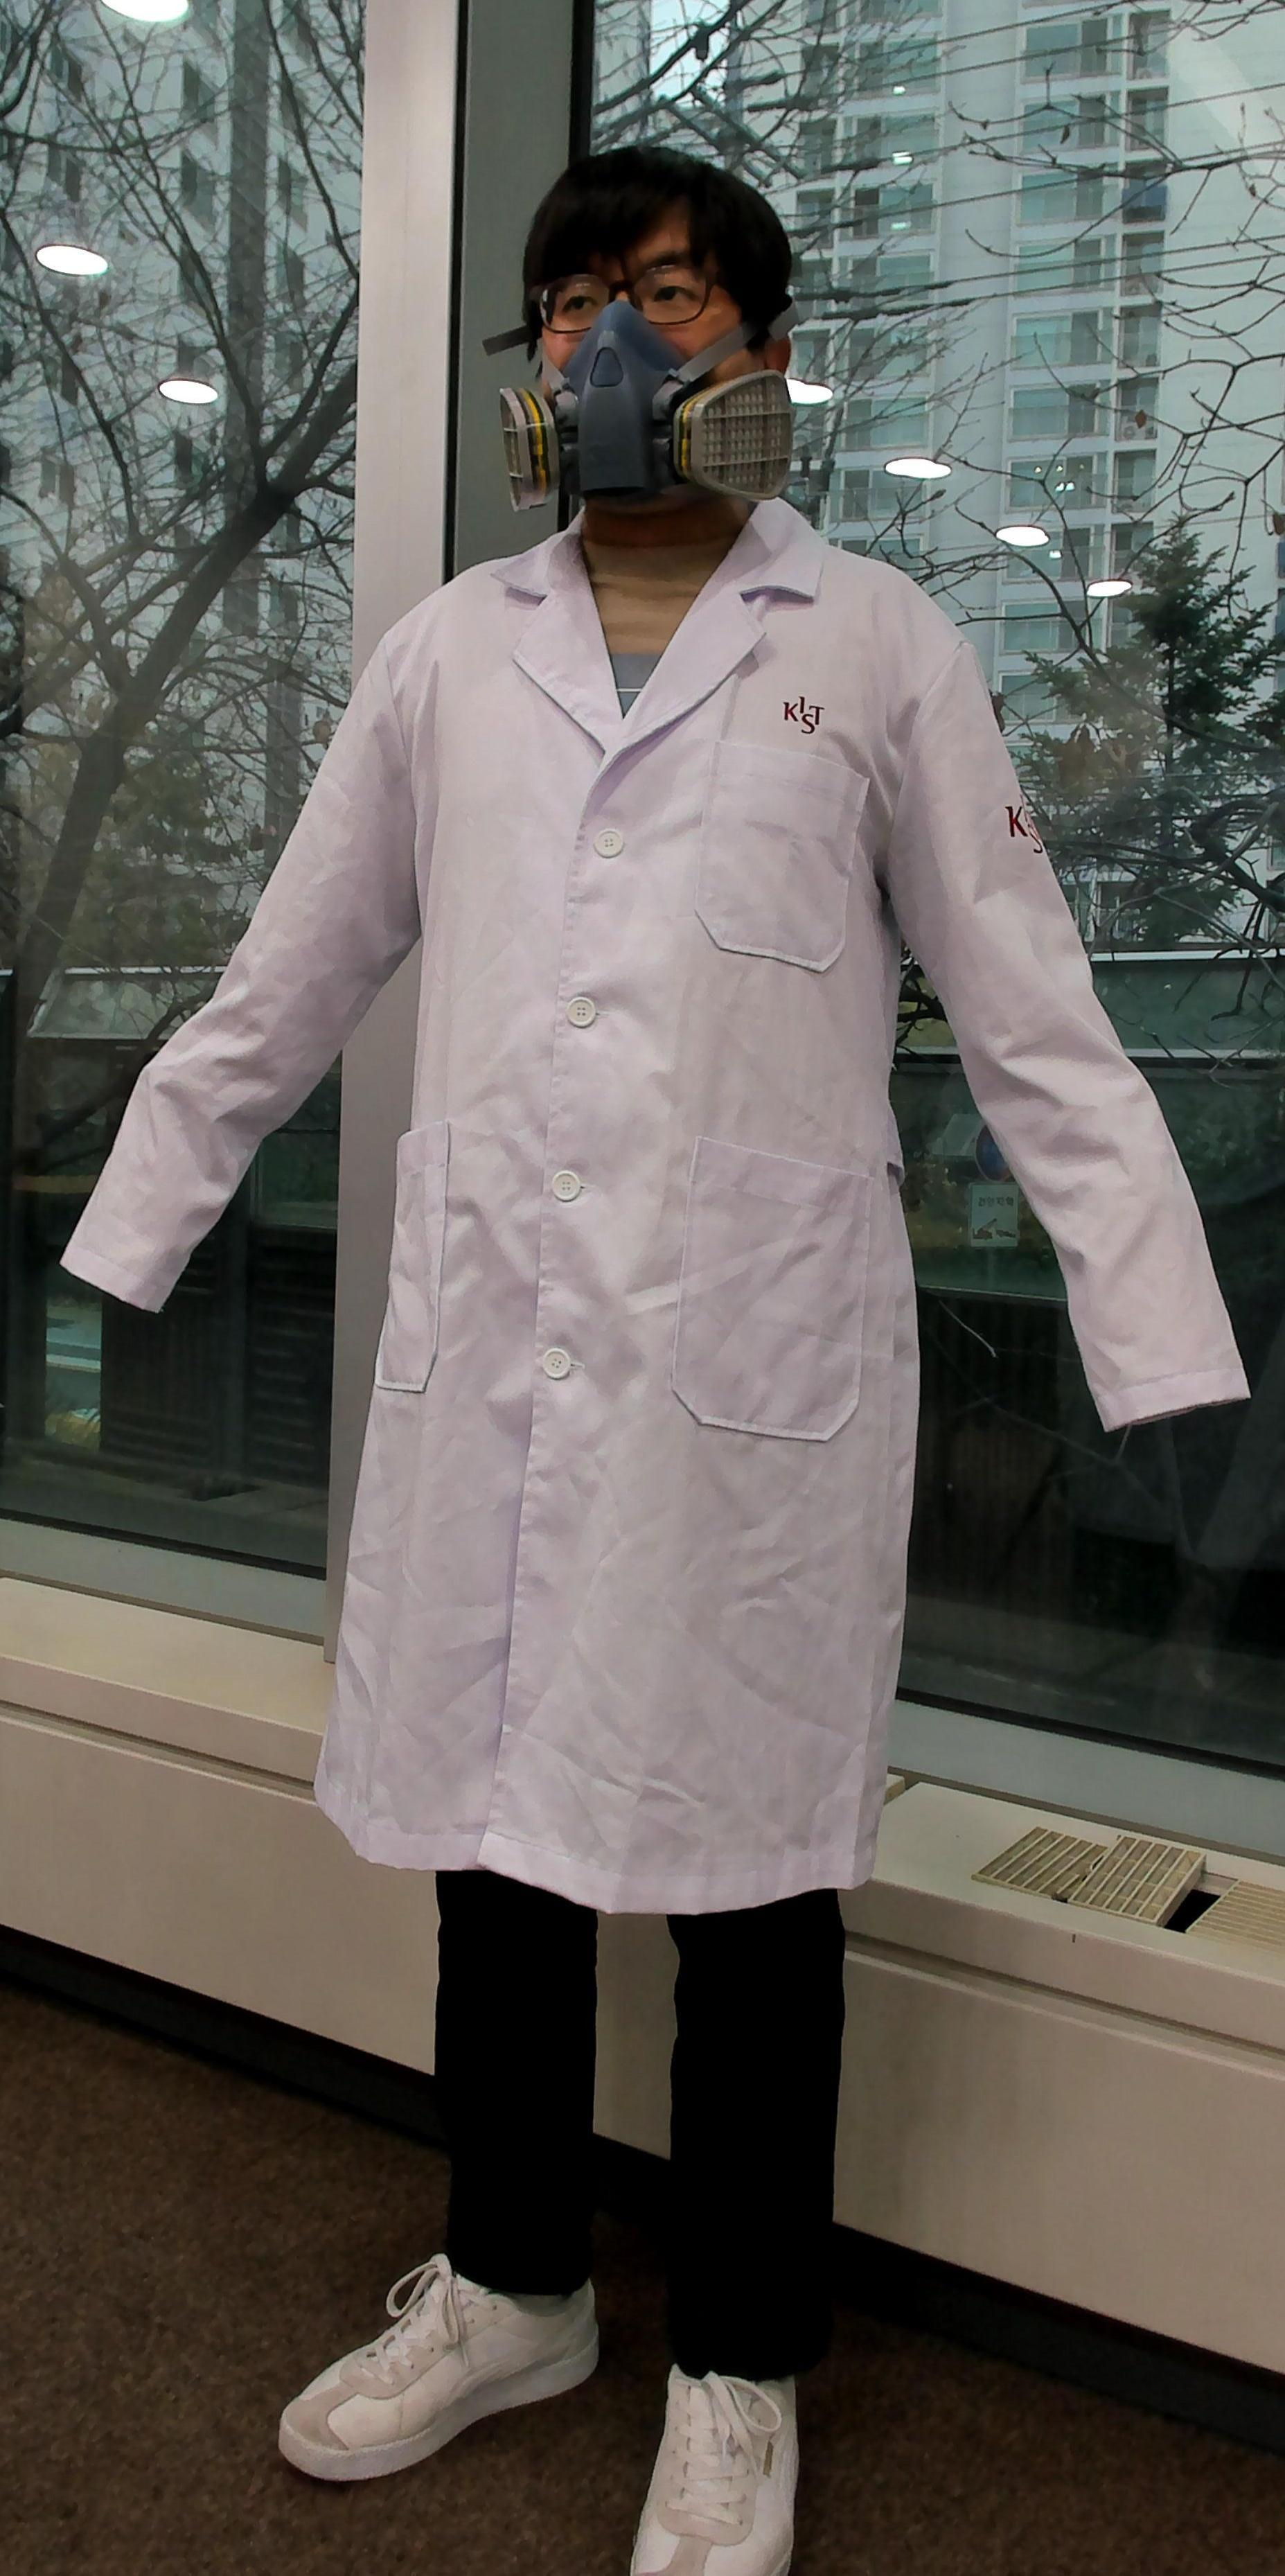lab_coat: (71, 577, 1273, 1883)
